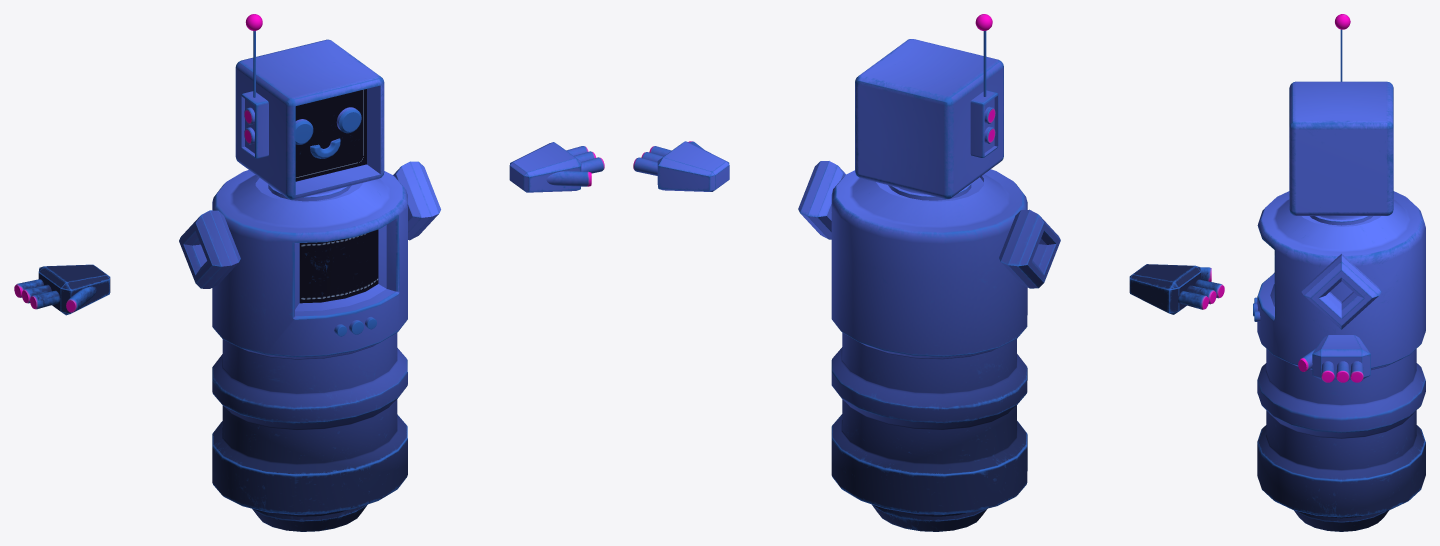
File: robot.fbx
The picture shows the model from 3 angles, left to right: view 1: azimuth 30°, elevation 25°; view 2: azimuth 150°, elevation 25°; view 3: azimuth 270°, elevation 25°; orthographic projection. The views are drawn at different scales.
Parts seen in each view (by area): view 1: robot; view 2: robot; view 3: robot.
Boxes of the visible parts, <box> form: robot: <box>14,14,604,531</box>; robot: <box>633,14,1224,531</box>; robot: <box>1253,14,1425,531</box>.
Size of the model in its own units: 1308 by 1121 by 372.
